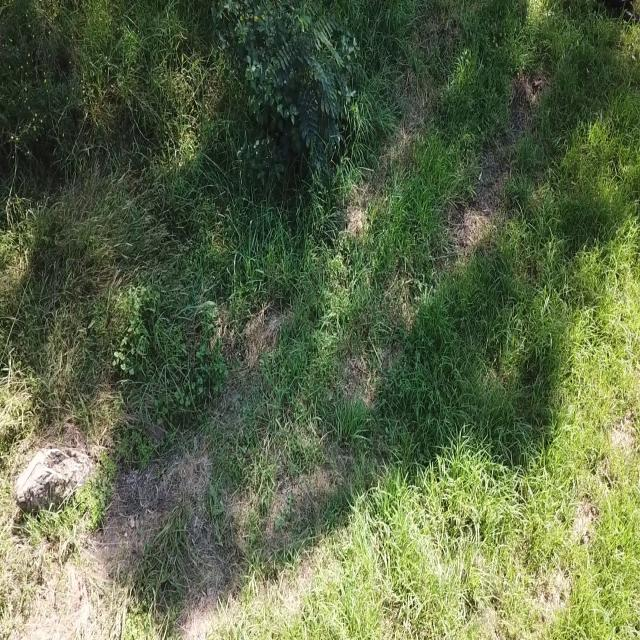Mysore-Thorn-Weed: (268, 0, 357, 168)
